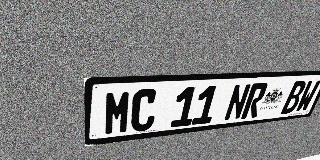1: (170, 86, 199, 128), (191, 85, 220, 125)
B: (280, 81, 308, 114)
C: (130, 88, 159, 133)
M: (104, 90, 132, 136)
N: (223, 84, 252, 121)
R: (241, 83, 269, 119)
W: (294, 80, 320, 113)
